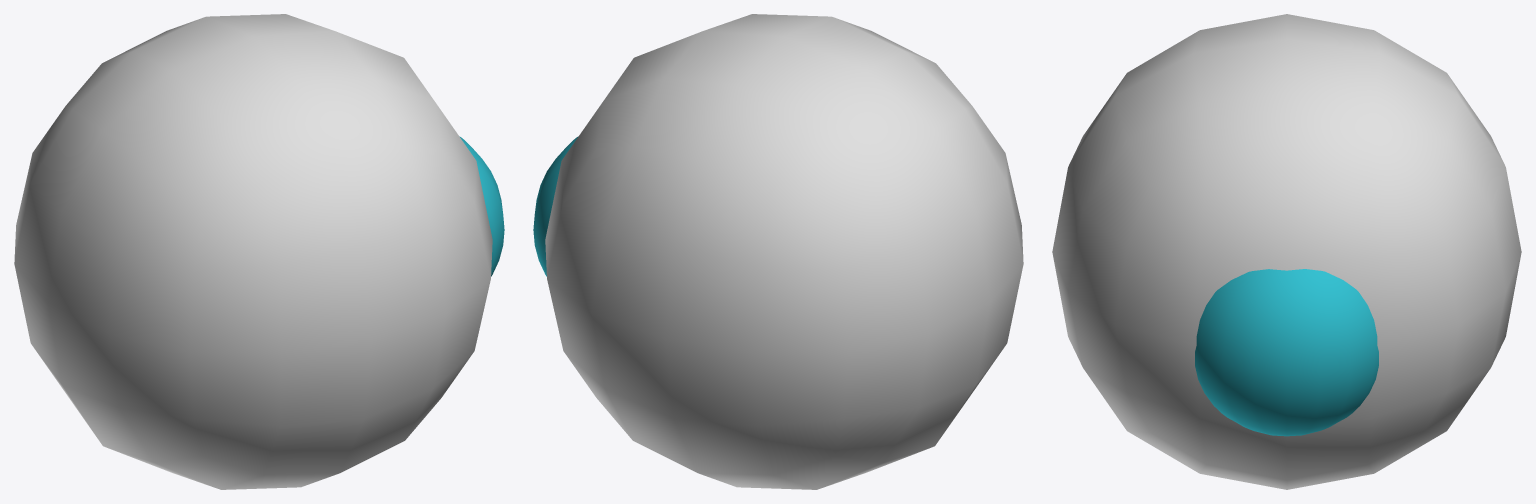
File: Son_1.fbx
3 views of the same model, side by side, from view 1: azimuth 30°, elevation 25°; view 2: azimuth 150°, elevation 25°; view 3: azimuth 270°, elevation 25° (orthographic).
Parts seen in each view (by area): view 1: pCube1, pSphere1; view 2: pCube1, pSphere1; view 3: pCube1, pSphere1.
Boxes of the visible parts, box(x1,y1,x2,y2) form: pCube1: box(14, 14, 492, 489); pSphere1: box(459, 136, 504, 276); pCube1: box(545, 14, 1023, 489); pSphere1: box(533, 136, 578, 276); pCube1: box(1052, 14, 1521, 489); pSphere1: box(1195, 269, 1378, 436).
Bounding box in the file's own units: 0.9455 × 0.8785 × 0.8785.
